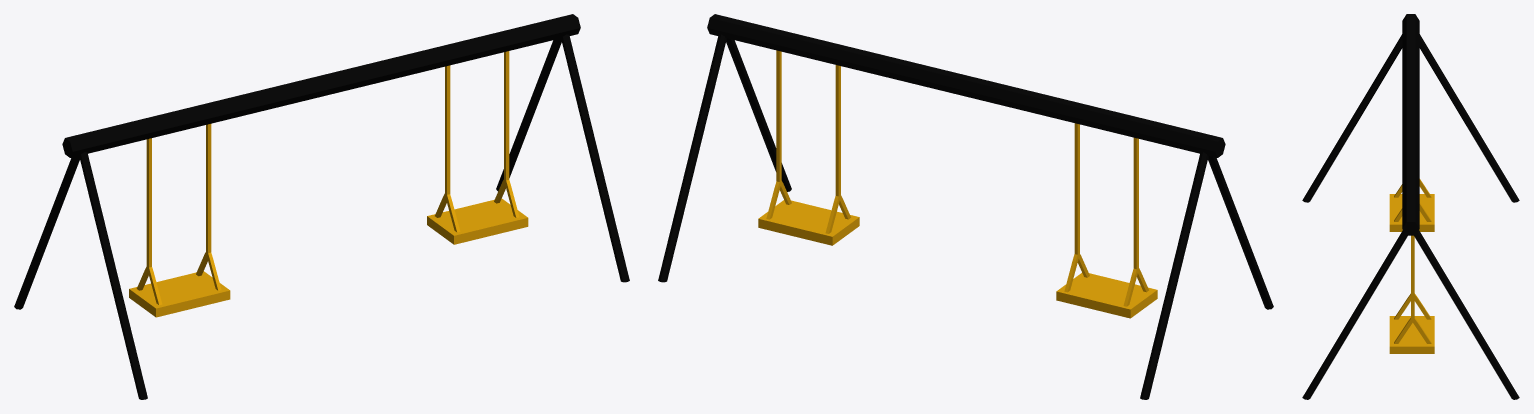
The model's file is Swing.fbx.
3 renders of one model, left to right at view 1: azimuth 30°, elevation 25°; view 2: azimuth 150°, elevation 25°; view 3: azimuth 270°, elevation 25°, orthographic. The views are drawn at different scales.
Visible parts, largest first — view 1: pipe, Swing_2, Swing_1; view 2: pipe, Swing_1, Swing_2; view 3: pipe, Swing_2, Swing_1.
Boxes of the visible parts, x1,y1,x2,y2 form: pipe: [14, 14, 629, 399]; Swing_2: [427, 51, 528, 244]; Swing_1: [129, 124, 230, 317]; pipe: [658, 14, 1273, 399]; Swing_1: [1056, 123, 1157, 318]; Swing_2: [758, 50, 859, 245]; pipe: [1302, 14, 1519, 399]; Swing_2: [1389, 235, 1434, 353]; Swing_1: [1389, 179, 1434, 231].
Size of the model in its own units: 597 by 244 by 264.
